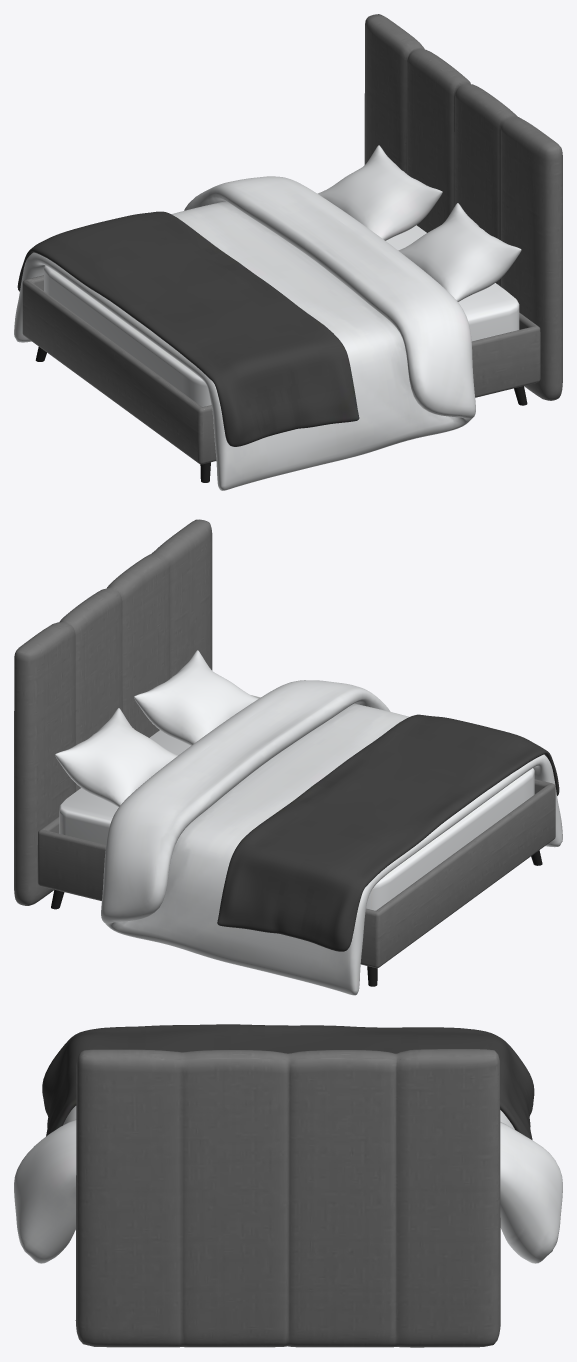
3 views of the same model, one above another, from view 1: azimuth 30°, elevation 25°; view 2: azimuth 150°, elevation 25°; view 3: azimuth 270°, elevation 25° (orthographic). The views are drawn at different scales.
Parts seen in each view (by area): view 1: OBJ_Bed_Blanket_1, OBJ_Bed_Body_0; view 2: OBJ_Bed_Blanket_1, OBJ_Bed_Body_0; view 3: OBJ_Bed_Body_0, OBJ_Bed_Blanket_1.
Boxes of the visible parts, <box> form: OBJ_Bed_Blanket_1: <box>14,145,521,490</box>; OBJ_Bed_Body_0: <box>22,14,562,482</box>; OBJ_Bed_Blanket_1: <box>55,650,562,995</box>; OBJ_Bed_Body_0: <box>14,519,555,986</box>; OBJ_Bed_Body_0: <box>75,1049,500,1347</box>; OBJ_Bed_Blanket_1: <box>14,1024,562,1263</box>.
Bounding box in the file's own units: 2.25 × 1.51 × 2.56.
2 materials, 2 textured.
